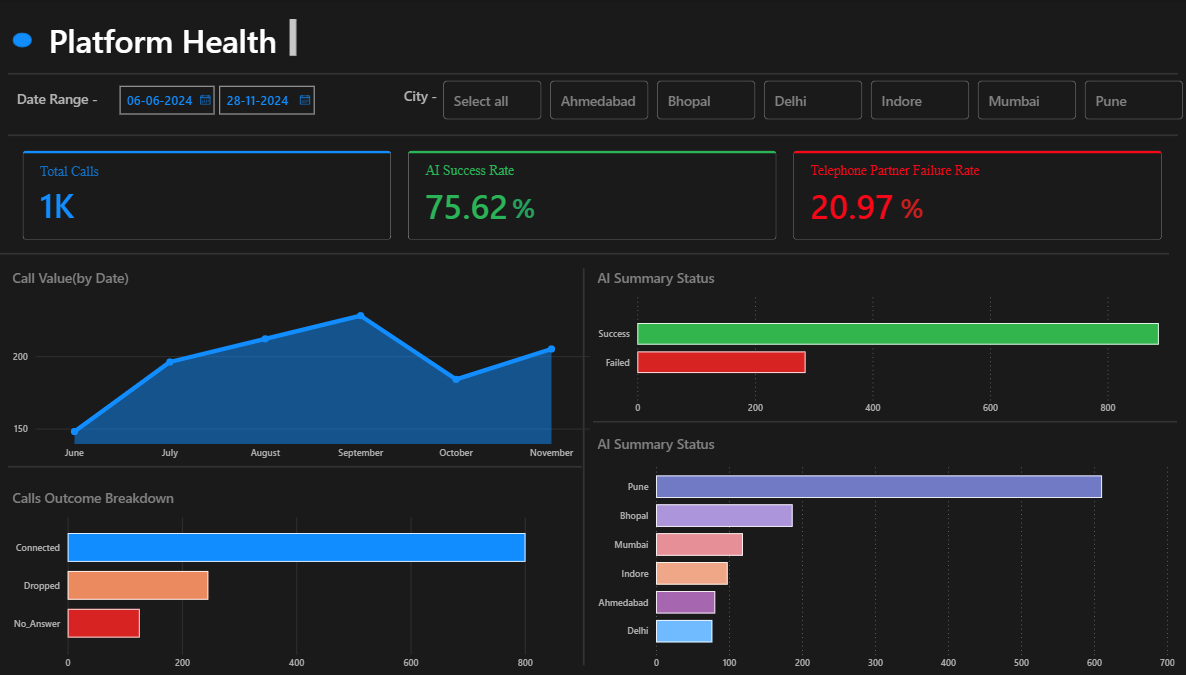

Layout of this report page (visuals, bound fields, positions):
{"tool":"powerbi","page":{"name":"Platform Health","canvas":[1400,800],"ordinal":0},"visuals":[{"type":"cardVisual","fields":{"Data":["All Measures.Total Calls","All Measures.AI Success Rate","All Measures.Telephone Partner Failure Rate"]},"box":[10.6,162.6,1378.5,139.6],"z":0},{"type":"textbox","box":[15.9,102.5,113.1,37.1],"z":1000},{"type":"shape","box":[10.6,136.1,1378.5,51.3],"z":2000},{"type":"shape","box":[10.6,58.3,1378.5,61.9],"z":3000},{"type":"shape","box":[0,263.3,1378.5,76],"z":4000},{"type":"advancedSlicerVisual","fields":{"Values":["clients.city"]},"box":[518,92,882,56],"z":5000},{"type":"textbox","box":[471.9,99,90.1,37.1],"z":6000},{"type":"shape","box":[15.9,40.6,23,17.7],"z":7000},{"type":"textbox","box":[53,19.4,302.2,56.6],"z":8000},{"type":"slicer","fields":{"Values":["calls.call_date"]},"box":[129,93.7,251,53],"z":9000},{"type":"areaChart","title":"Call Value(by Date)","fields":{"Category":["calls.call_date.Variation.Date Hierarchy.Month"],"Y":["All Measures.Total Calls"]},"box":[10,318,690,234],"z":10000},{"type":"clusteredBarChart","title":"AI Summary Status","fields":{"Category":["calls.ai_summary_status"],"Y":["All Measures.Total Calls"]},"box":[699.9,318.1,689.3,182],"z":11000},{"type":"clusteredBarChart","title":"Calls Outcome Breakdown","fields":{"Y":["All Measures.Total Calls"],"Category":["calls.call_status"]},"box":[10,578,690,222],"z":12000},{"type":"clusteredBarChart","title":"AI Summary Status","fields":{"Y":["All Measures.Total Calls"],"Category":["clients.city"]},"box":[700,514,690,286],"z":13000},{"type":"textbox","box":[600,218.3,40,56.7],"z":14000},{"type":"textbox","box":[1056.7,218.3,51.7,56.7],"z":15000},{"type":"shape","box":[654,318,70,468],"z":16000},{"type":"shape","box":[10,514,676,76],"z":17000},{"type":"shape","box":[700,462,688,76],"z":18000}]}

Visuals, with their boxes in screenshot pixels (x1, y1, x2, y2), scaled from the page's 1400x800 canvas onto the 1186x675 screenshot:
cardVisual - All Measures.Total Calls x All Measures.AI Success Rate: [x1=9, y1=137, x2=1177, y2=255]
textbox: [x1=13, y1=86, x2=109, y2=118]
shape: [x1=9, y1=115, x2=1177, y2=158]
shape: [x1=9, y1=49, x2=1177, y2=101]
shape: [x1=0, y1=222, x2=1168, y2=286]
advancedSlicerVisual - clients.city: [x1=439, y1=78, x2=1185, y2=125]
textbox: [x1=400, y1=84, x2=476, y2=115]
shape: [x1=13, y1=34, x2=33, y2=49]
textbox: [x1=45, y1=16, x2=301, y2=64]
slicer - calls.call_date: [x1=109, y1=79, x2=322, y2=124]
"Call Value(by Date)" areaChart: [x1=8, y1=268, x2=593, y2=466]
"AI Summary Status" clusteredBarChart: [x1=593, y1=268, x2=1177, y2=422]
"Calls Outcome Breakdown" clusteredBarChart: [x1=8, y1=488, x2=593, y2=674]
"AI Summary Status" clusteredBarChart: [x1=593, y1=434, x2=1178, y2=674]
textbox: [x1=508, y1=184, x2=542, y2=232]
textbox: [x1=895, y1=184, x2=939, y2=232]
shape: [x1=554, y1=268, x2=613, y2=663]
shape: [x1=8, y1=434, x2=581, y2=498]
shape: [x1=593, y1=390, x2=1176, y2=454]
